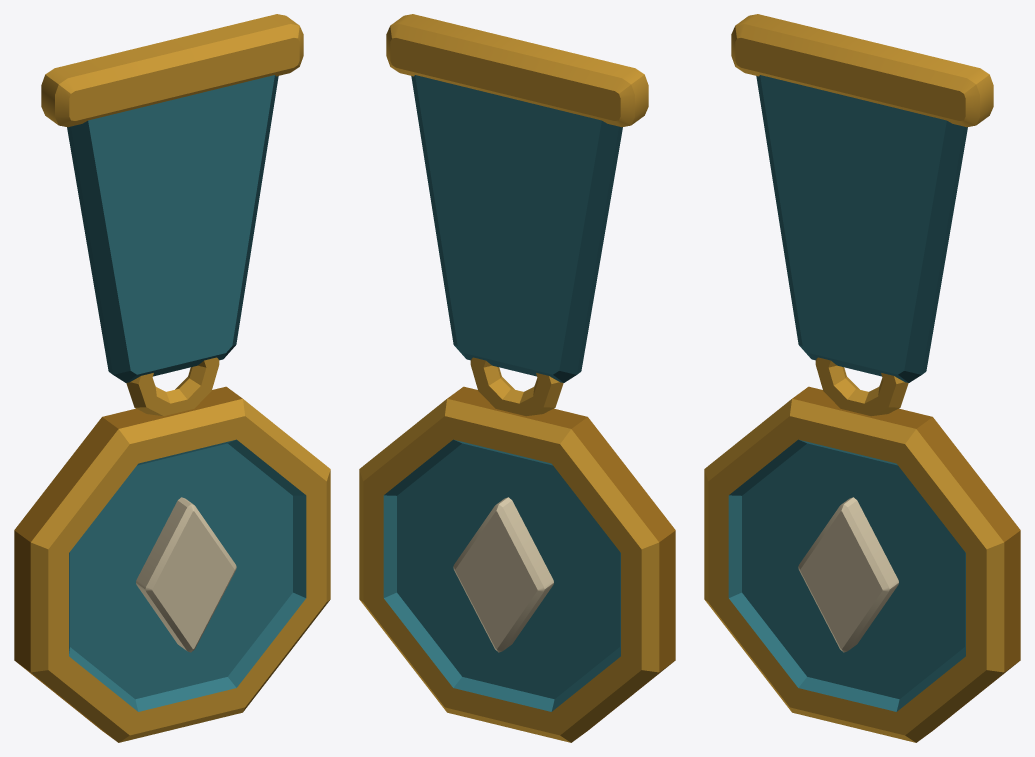
File: Medal_39.glb
3 renders of one model, left to right at view 1: azimuth 30°, elevation 25°; view 2: azimuth 150°, elevation 25°; view 3: azimuth 330°, elevation 25°, orthographic.
Parts seen in each view (by area): view 1: Medal_39; view 2: Medal_39; view 3: Medal_39.
Boxes of the visible parts, x1,y1,x2,y2 form: Medal_39: [14, 14, 330, 742]; Medal_39: [359, 14, 675, 742]; Medal_39: [704, 14, 1020, 742].
Size of the model in its own units: 1.15 by 2.48 by 0.28.
